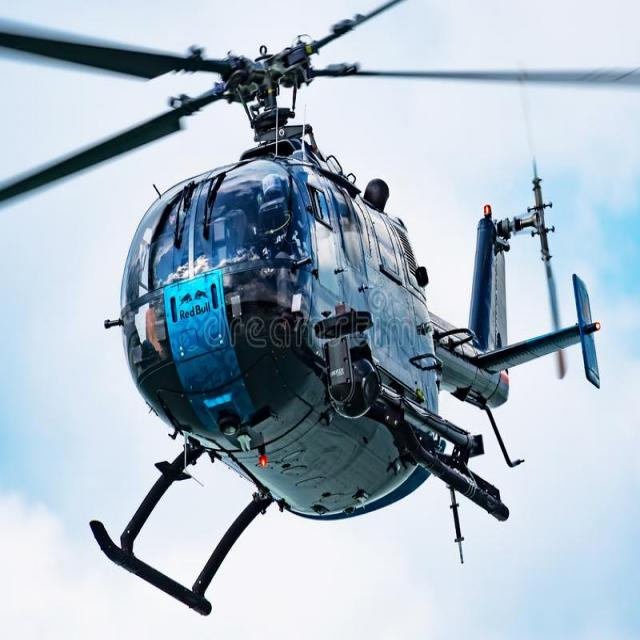helicopter: (2, 30, 640, 624)
